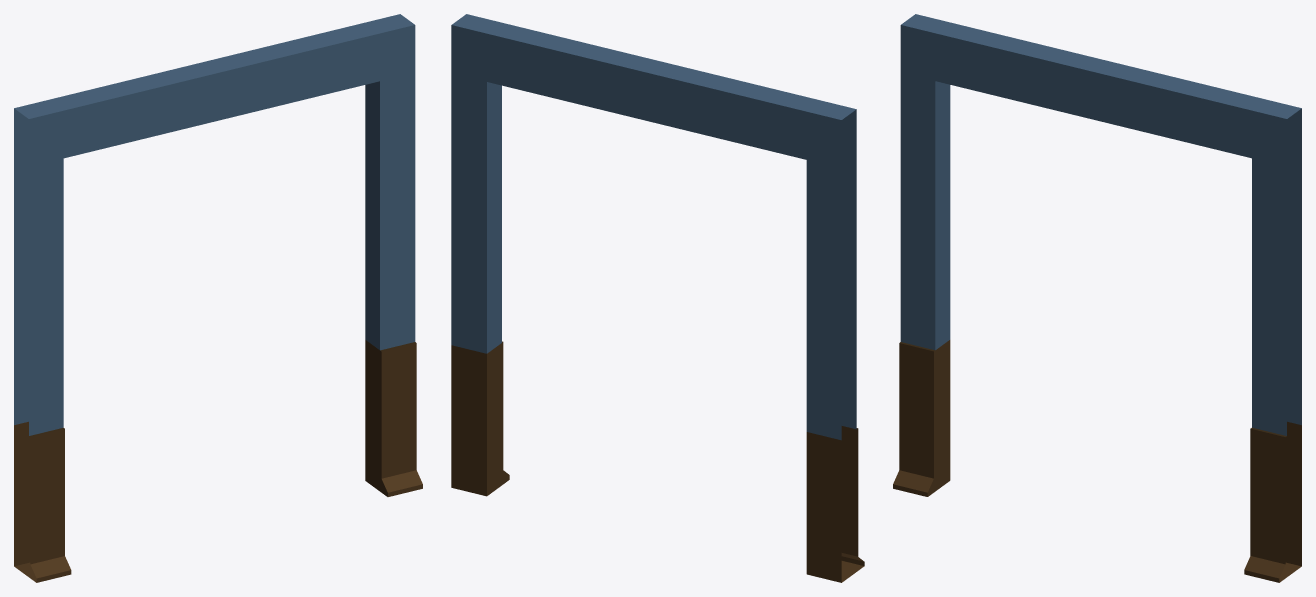
The model's file is Walls_DoubleDoor.fbx.
3 views of the same model, side by side, from view 1: azimuth 30°, elevation 25°; view 2: azimuth 150°, elevation 25°; view 3: azimuth 330°, elevation 25° (orthographic).
Parts seen in each view (by area): view 1: pCube1; view 2: pCube1; view 3: pCube1.
Part boxes in pixels (x1,y1,x2,y2): pCube1: (14,14,422,582); pCube1: (451,14,864,582); pCube1: (893,14,1301,582).
Size of the model in its own units: 15 by 17 by 1.52.
